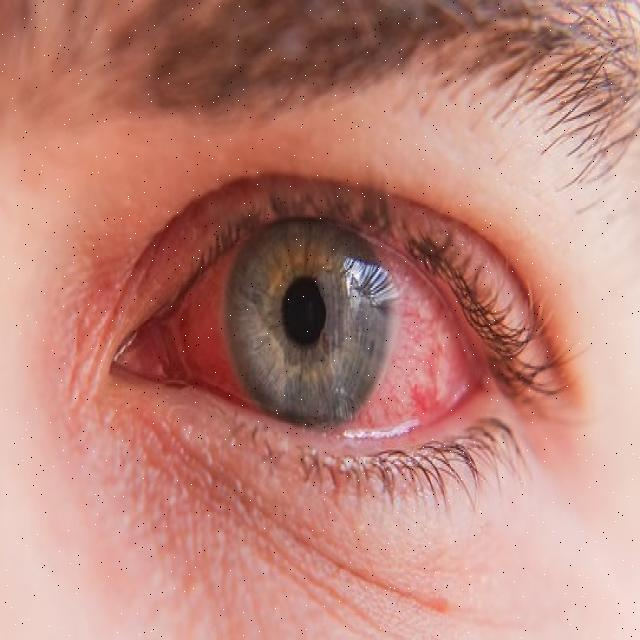Conjunctivitis: (118, 220, 489, 436)
